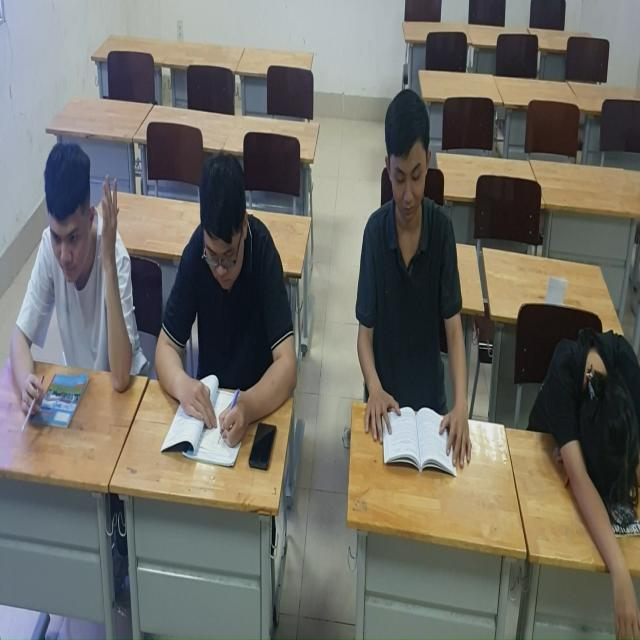raise_hand: (2, 120, 143, 434)
read: (151, 140, 303, 476), (353, 68, 475, 471)
sleep: (532, 301, 640, 640)
